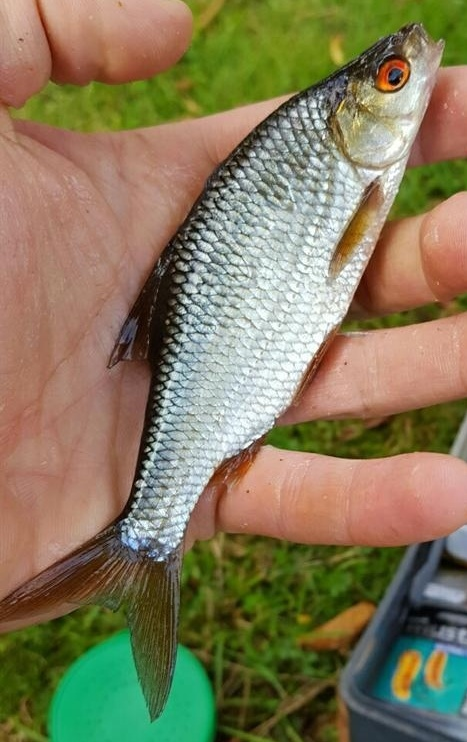Rutilus rutilus: (1, 20, 447, 722)
